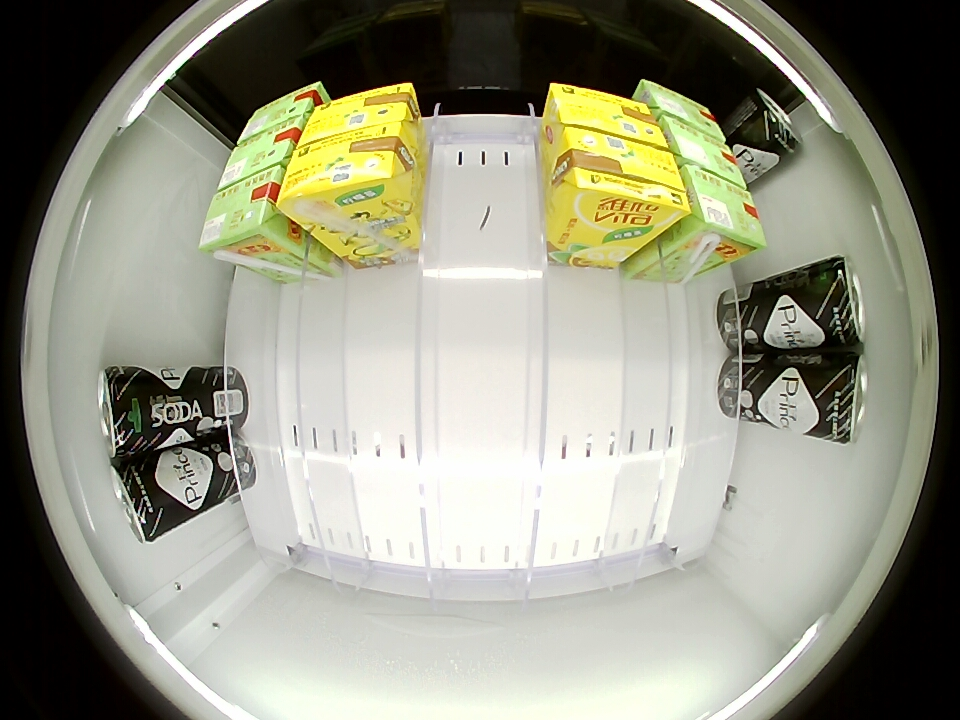qingdaowangzi-1: (110, 460, 173, 544), (98, 364, 152, 459), (812, 353, 868, 444), (811, 255, 865, 348), (739, 87, 801, 162)
wanglaoji: (199, 166, 288, 260), (680, 165, 766, 259), (660, 117, 746, 187), (220, 120, 305, 187), (635, 79, 725, 142), (240, 82, 331, 141)
weitaningmeng: (551, 126, 690, 234), (277, 123, 417, 227), (544, 83, 669, 148), (297, 82, 418, 147)
